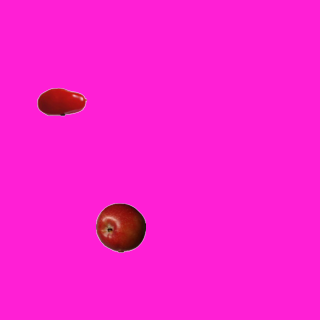Apple Braeburn: (95, 202, 145, 252)
Tomato 2: (36, 76, 86, 126)
